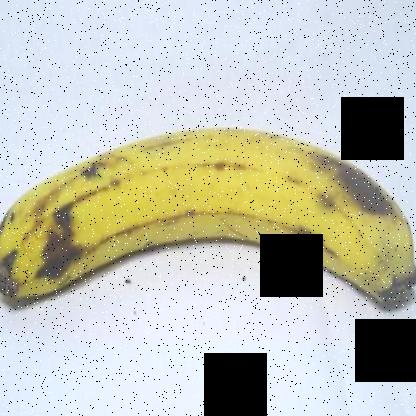ripe: (0, 95, 415, 325)
